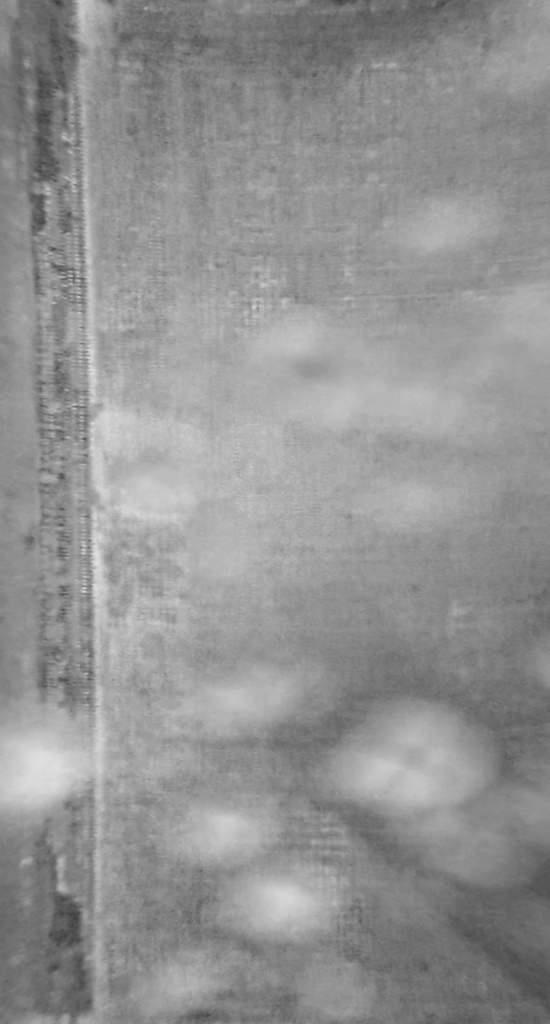splice: (16, 1, 109, 1023)
